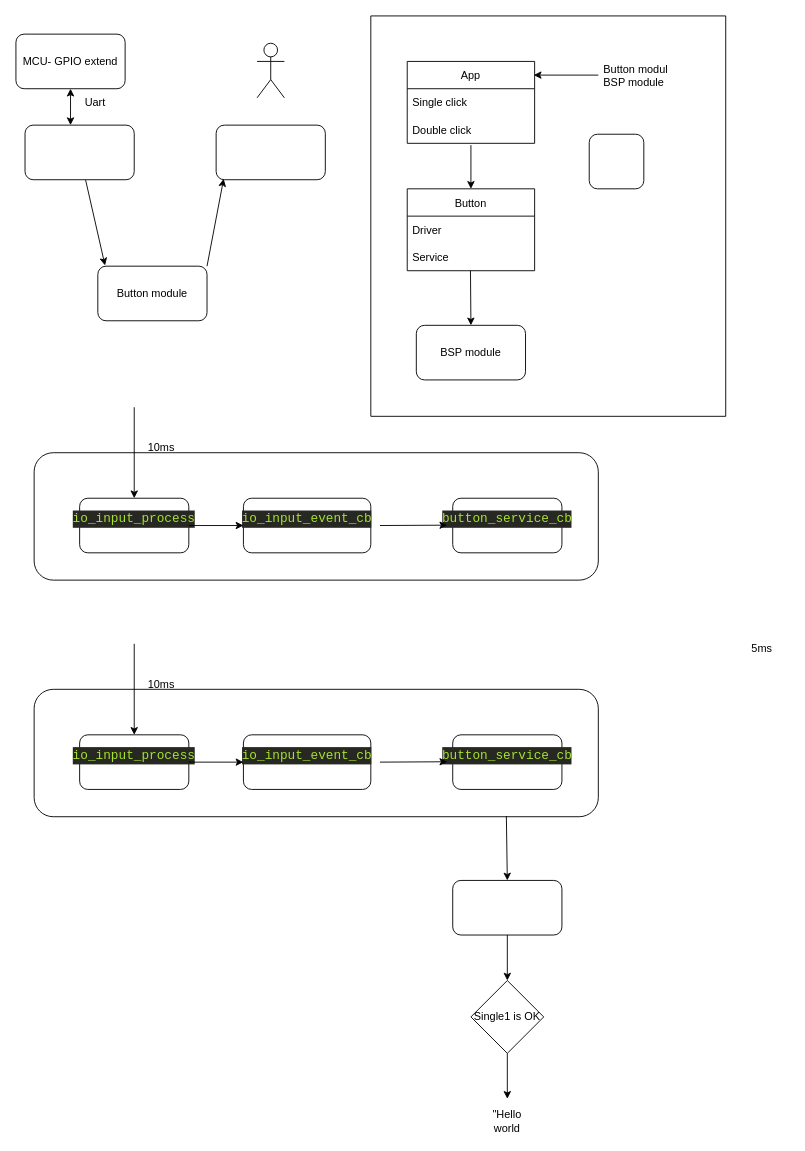
Image size: 805x1151. Some labels were removed from this diagram. The centre of each missing label's shape, as x and y in pixels:
Actor: the point at 270,70
GPIO callback: the point at 79,152
Service callback: the point at 270,152
Single2 event: the point at 507,907
